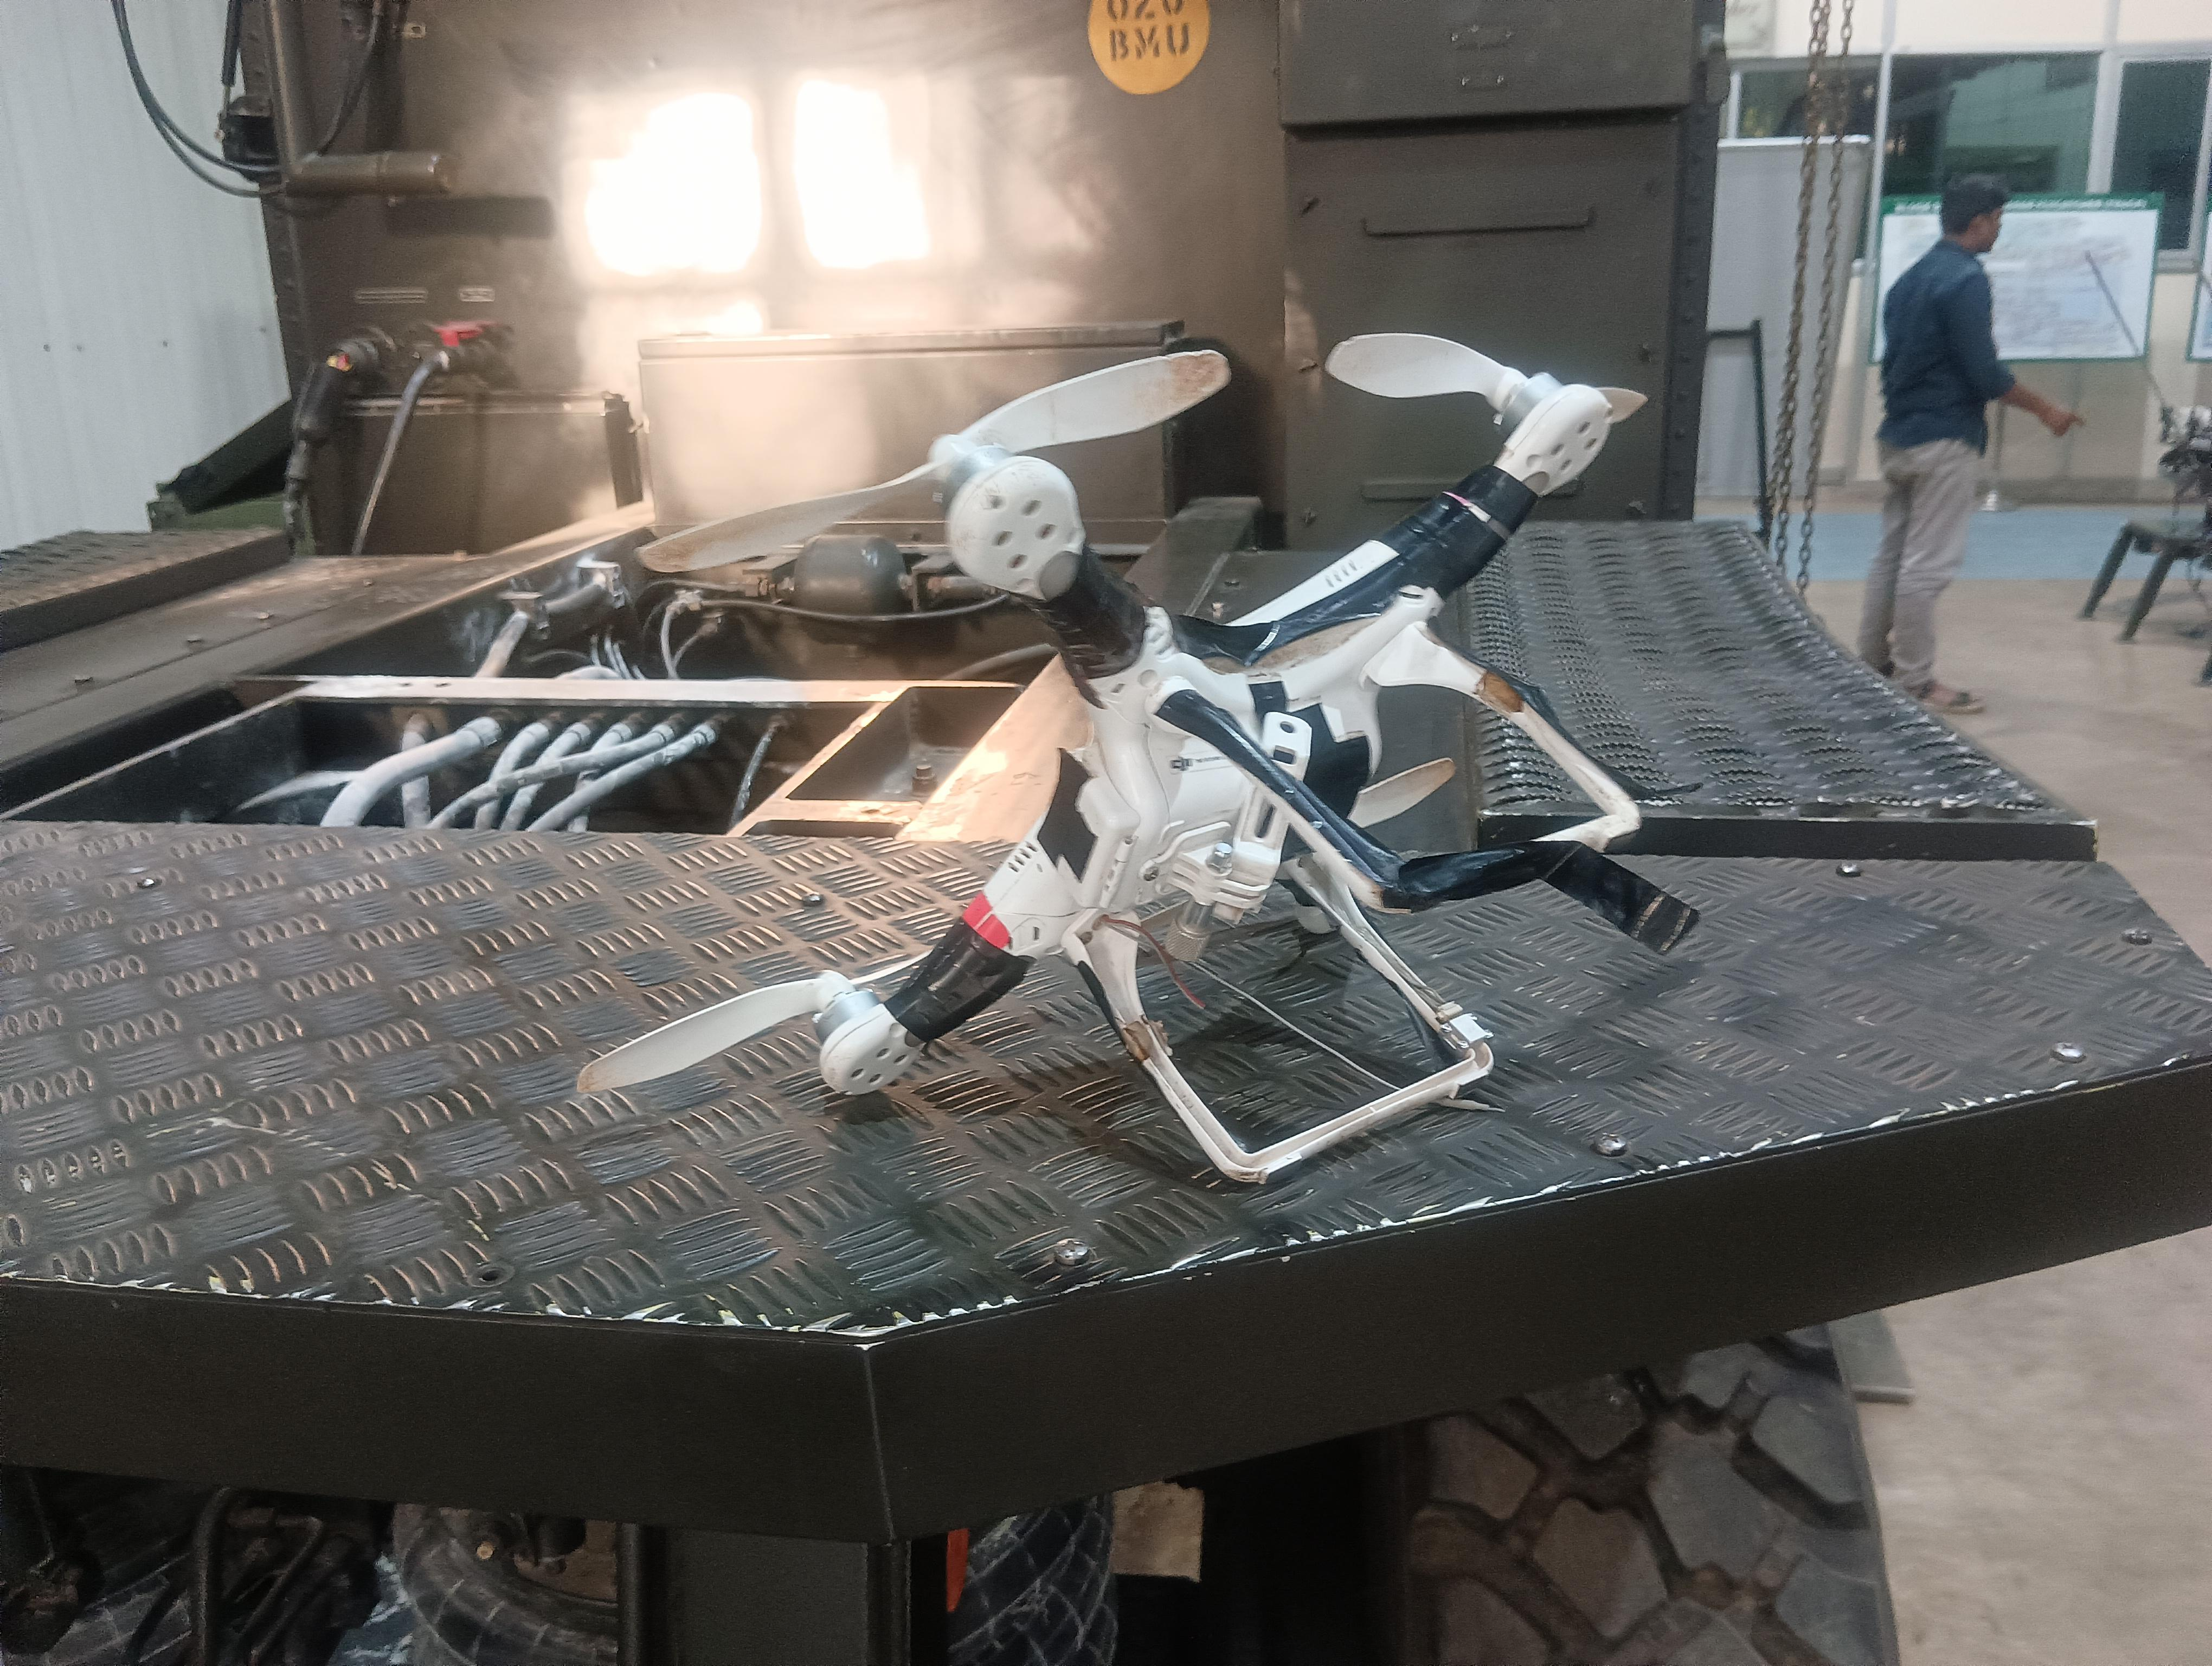drone: (472, 273, 1777, 1211)
